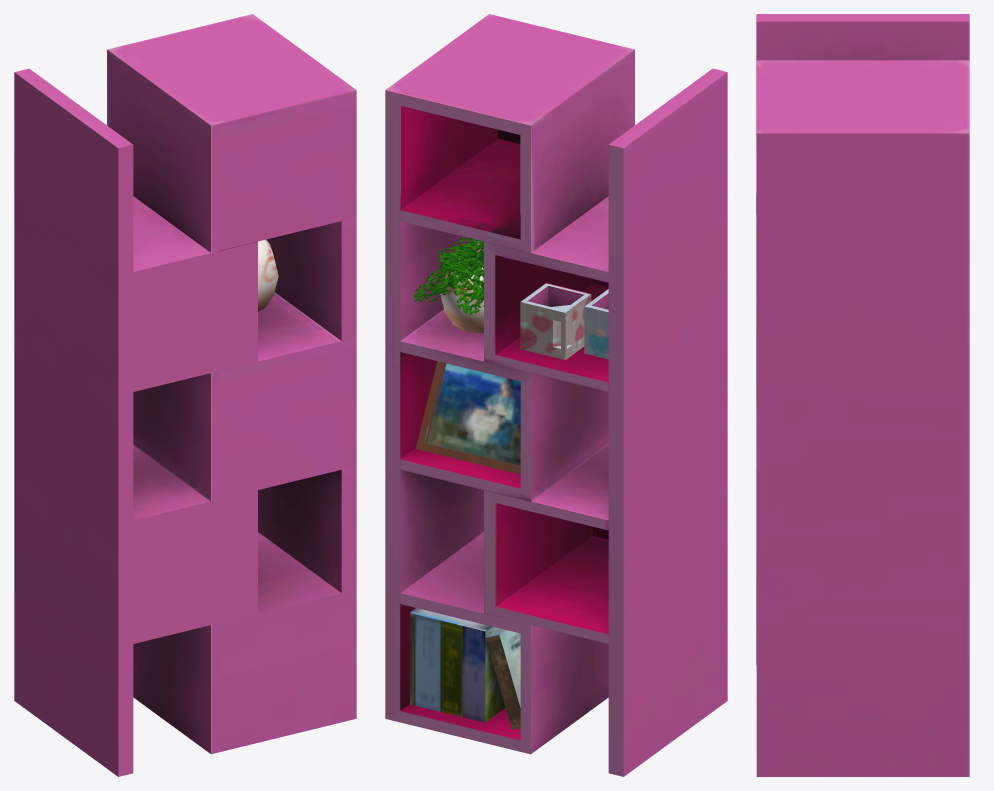
The model's file is furni_0200515_01.FBX.
The picture shows the model from 3 angles, left to right: view 1: azimuth 30°, elevation 25°; view 2: azimuth 150°, elevation 25°; view 3: azimuth 270°, elevation 25°; orthographic projection. The views are drawn at different scales.
Visible parts, largest first — view 1: furni_0200515_01; view 2: furni_0200515_01; view 3: furni_0200515_01.
Boxes of the visible parts, x1,y1,x2,y2 form: furni_0200515_01: [14, 14, 356, 776]; furni_0200515_01: [385, 14, 727, 776]; furni_0200515_01: [756, 14, 969, 776].
Size of the model in its own units: 79.4 by 200 by 62.79.
1 material, 1 textured.
